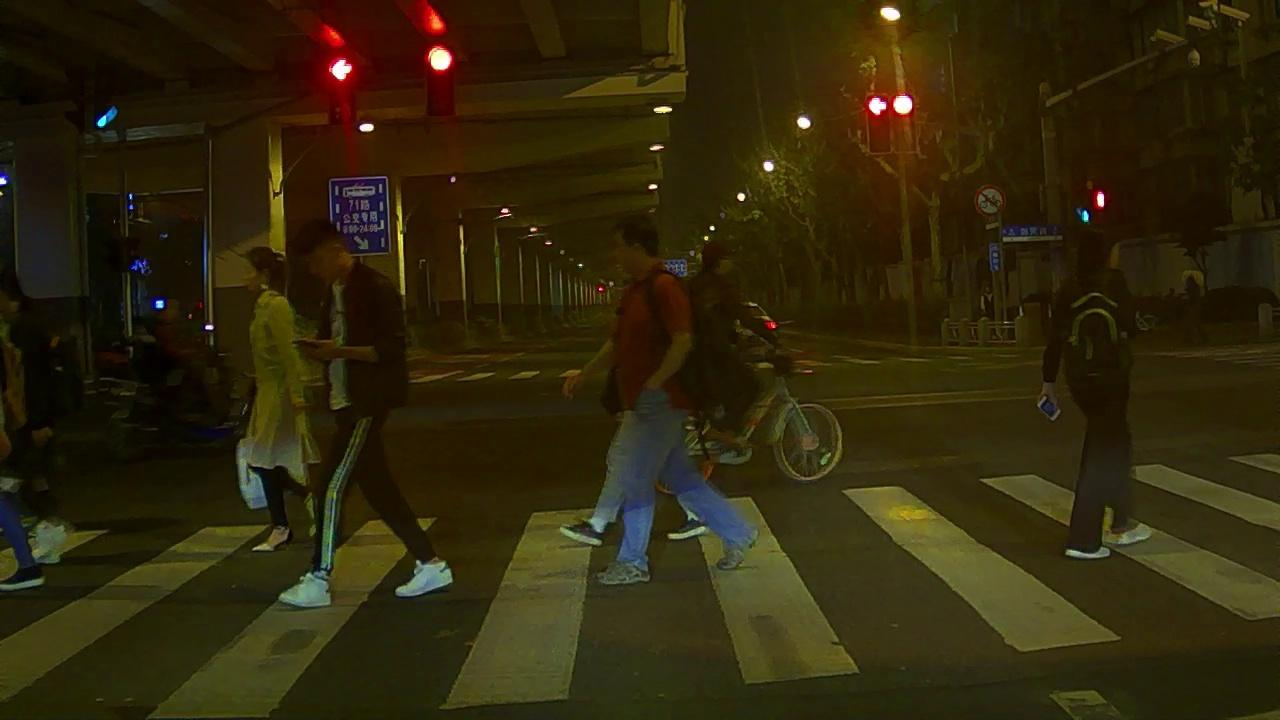traffic_light: (429, 42, 455, 115), (327, 53, 353, 120), (889, 97, 913, 153), (867, 97, 888, 150)
